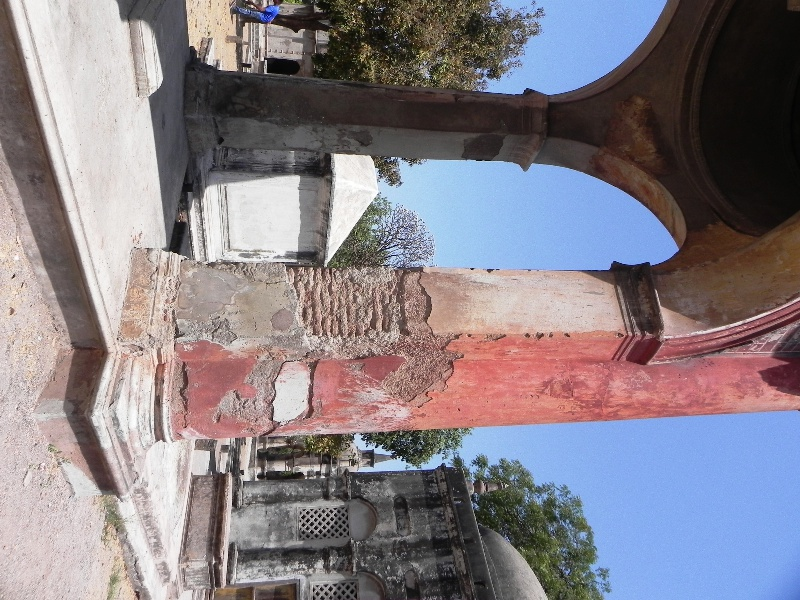Exposed Bricks: (301, 273, 407, 332)
Spalling: (385, 337, 470, 402), (173, 310, 190, 419), (458, 134, 505, 160)
